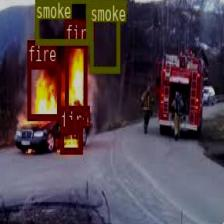fire: (27, 62, 60, 119), (64, 42, 86, 126), (60, 128, 82, 152)
smoke: (34, 0, 89, 45), (89, 0, 119, 71)
